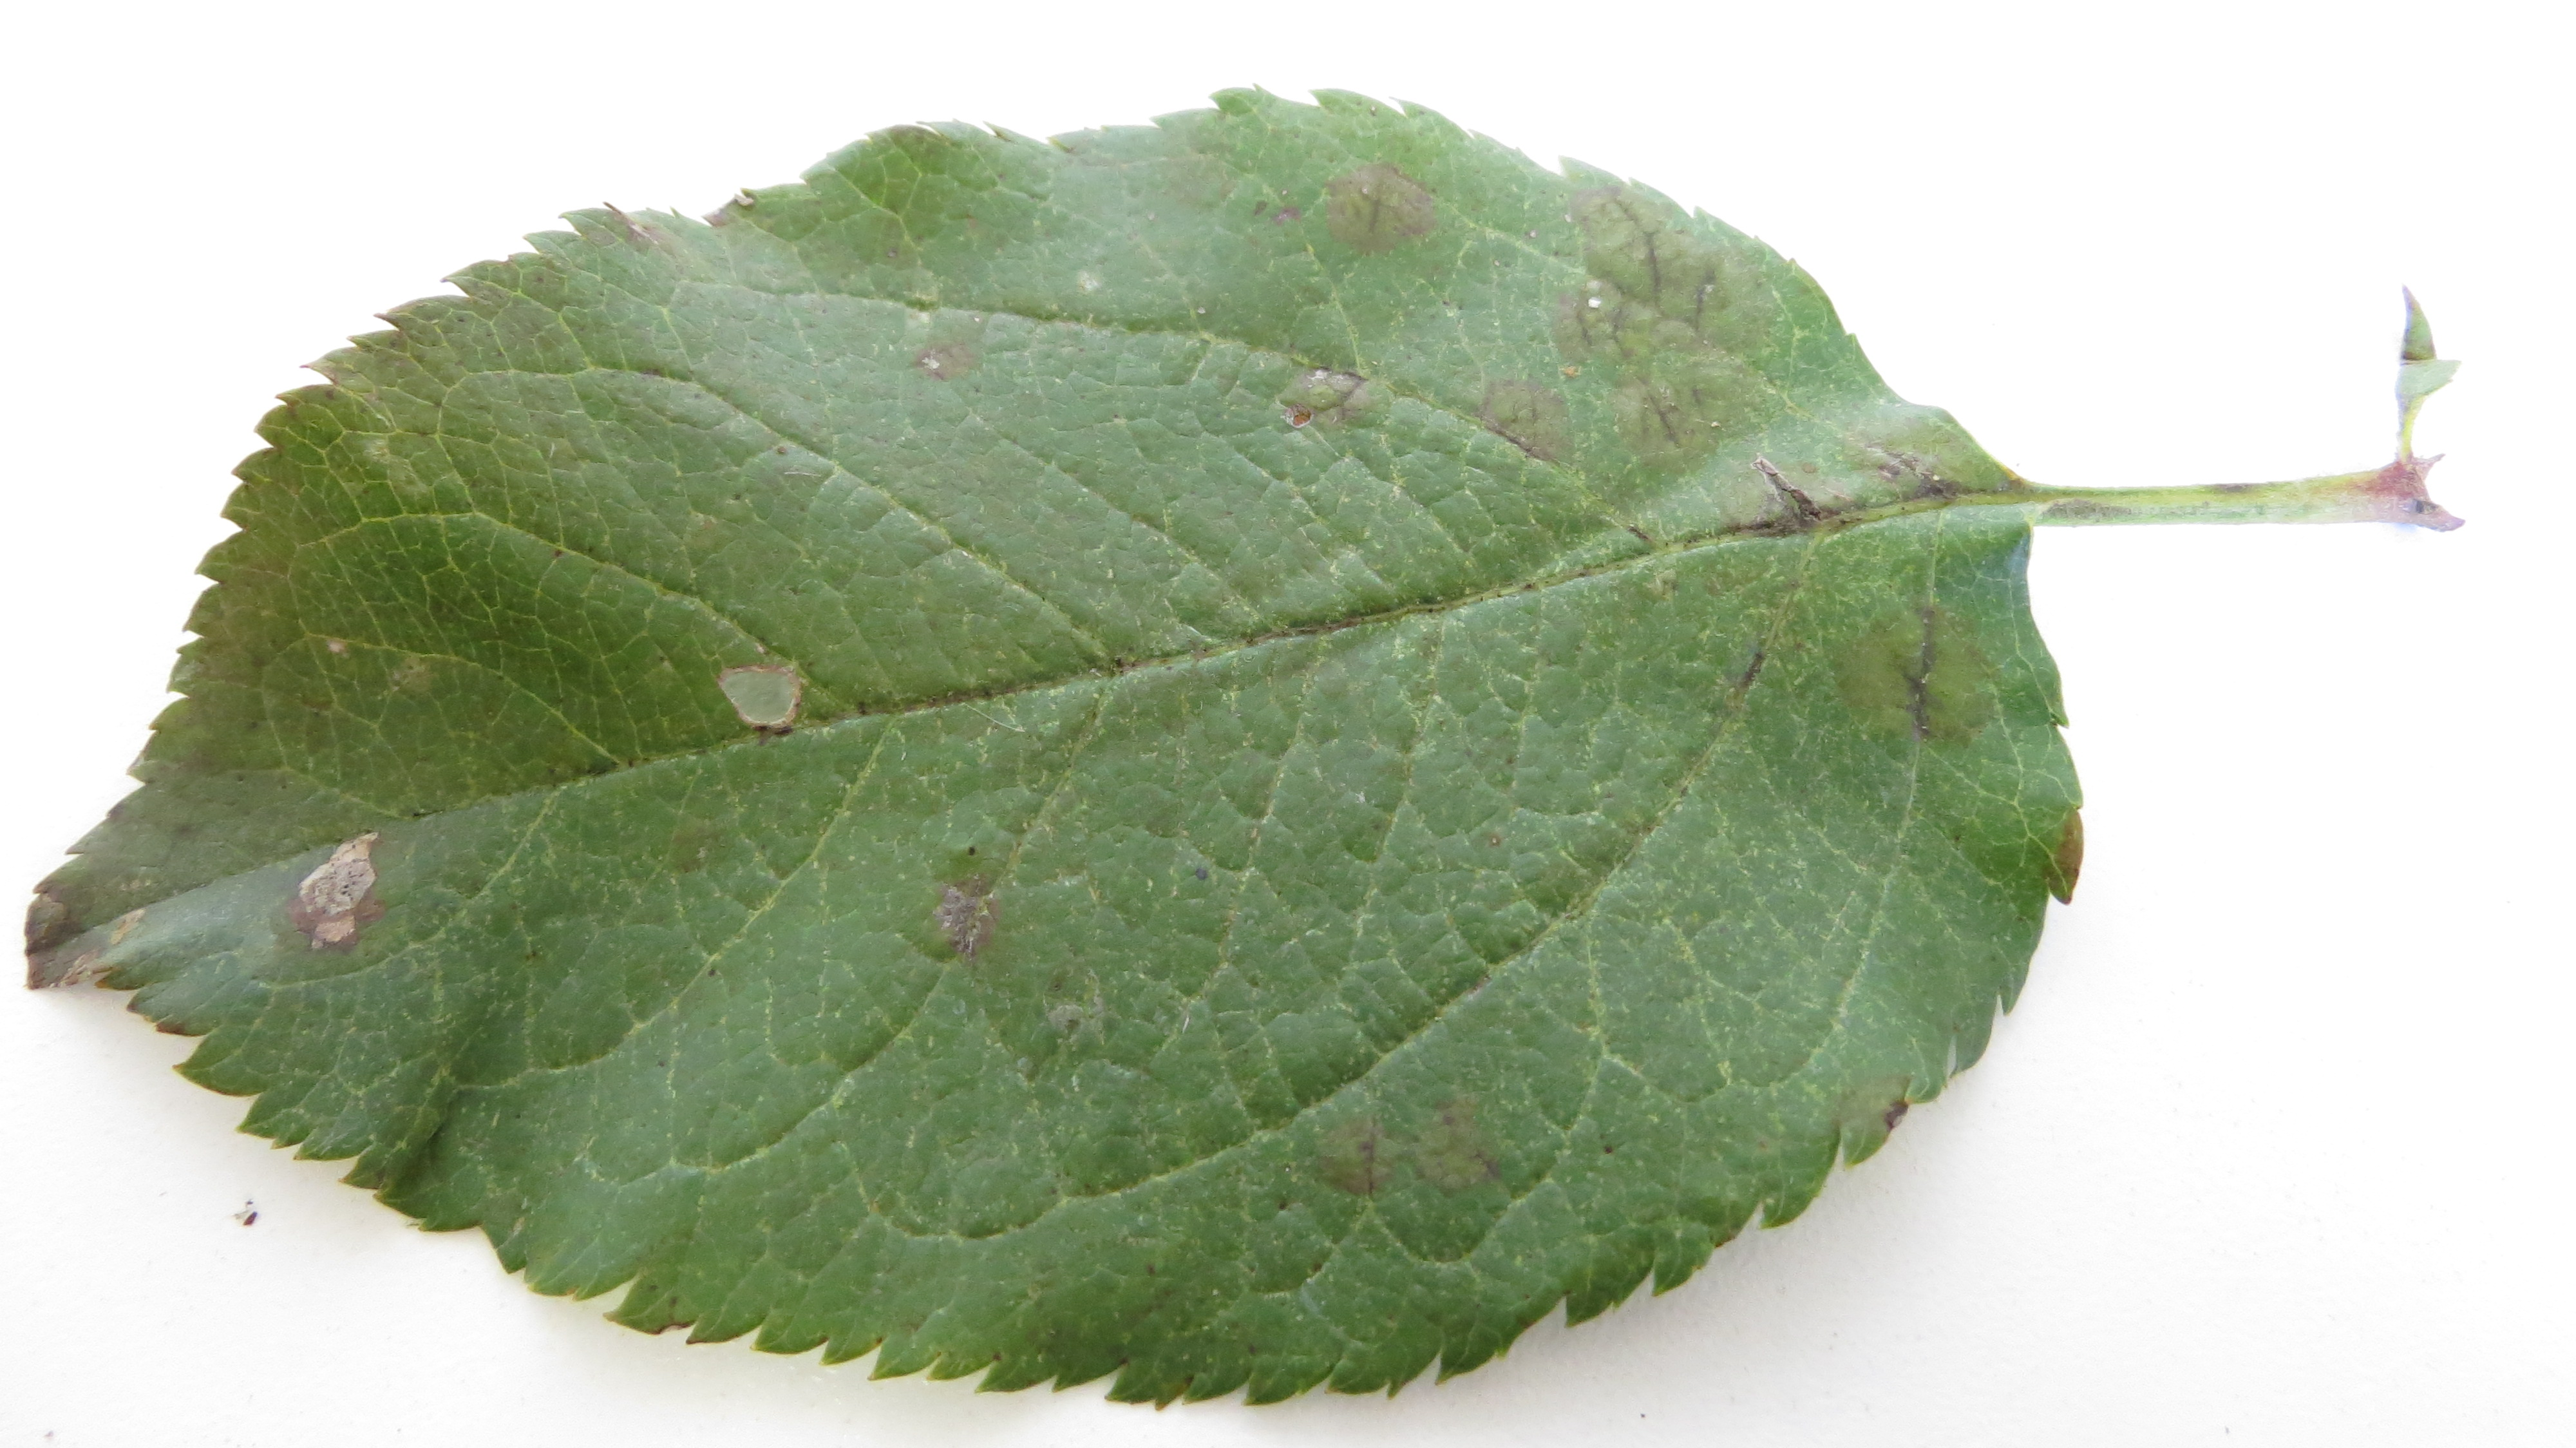sarna: (1536, 181, 1787, 381), (1835, 588, 2003, 765), (276, 809, 416, 975), (1606, 366, 1762, 501), (1851, 391, 1978, 517), (1302, 152, 1445, 260), (1456, 370, 1591, 483), (1267, 343, 1407, 450), (1407, 1073, 1509, 1195), (1730, 441, 1842, 551), (1297, 1089, 1396, 1202), (925, 859, 1019, 956), (909, 312, 993, 386)
